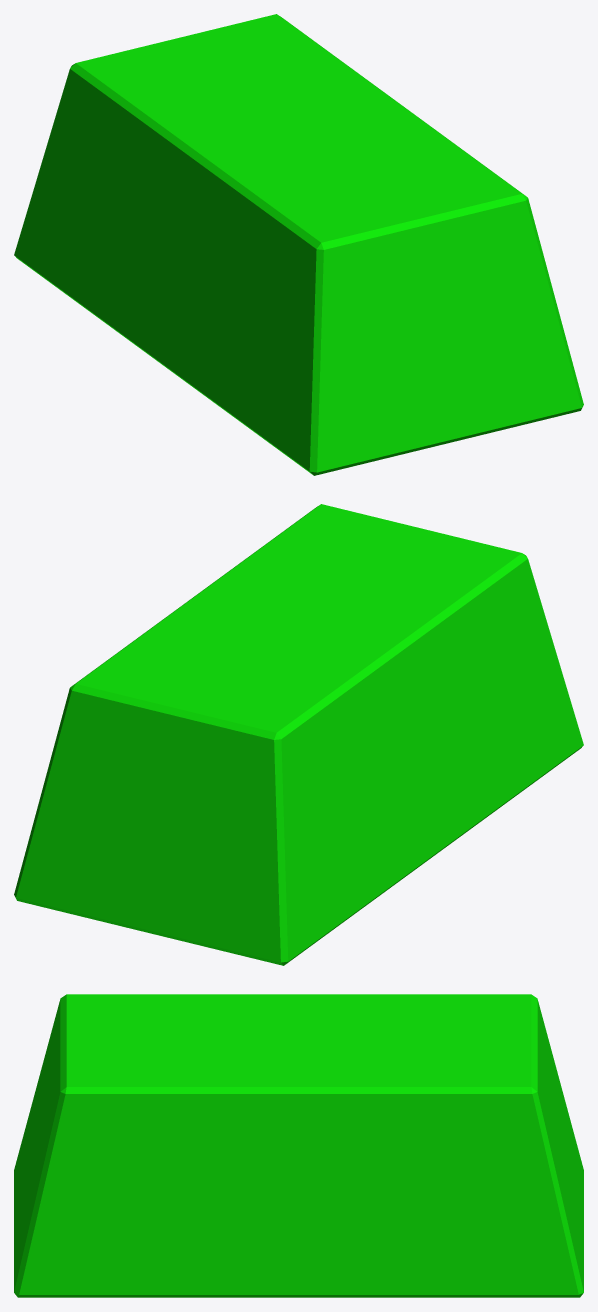
The model's file is bar.fbx.
3 renders of one model, top to bottom at view 1: azimuth 30°, elevation 25°; view 2: azimuth 150°, elevation 25°; view 3: azimuth 270°, elevation 25°, orthographic. The views are drawn at different scales.
Parts seen in each view (by area): view 1: Cube; view 2: Cube; view 3: Cube.
Boxes of the visible parts, x1,y1,x2,y2 form: Cube: (14, 14, 583, 475); Cube: (14, 504, 583, 965); Cube: (14, 994, 583, 1297).
Bounding box in the file's own units: 59.85 × 43.02 × 114.
